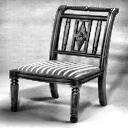chair_success: (4, 2, 123, 123)
